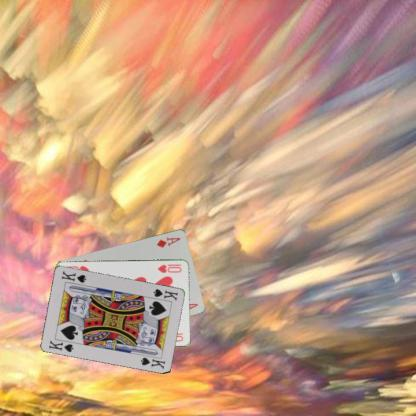10h: (156, 262, 182, 274)
Ad: (154, 234, 182, 249)
Ks: (151, 286, 179, 302), (47, 337, 75, 353)
